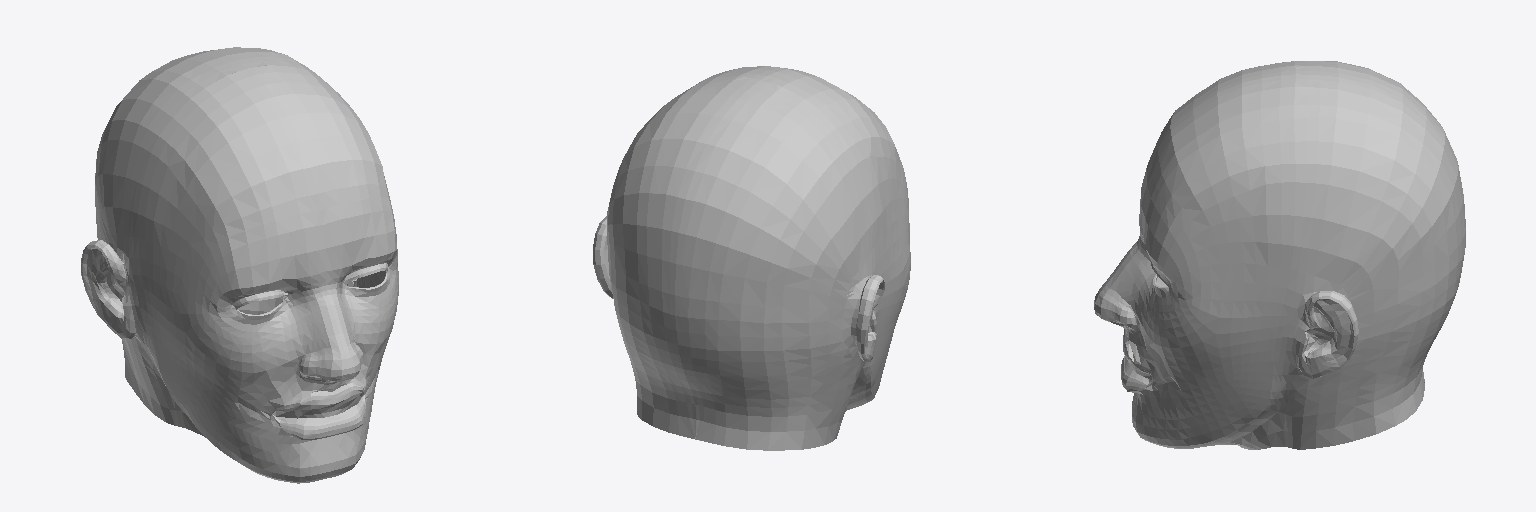
File: slightly open mouth.obj
3 renders of one model, left to right at view 1: azimuth 30°, elevation 25°; view 2: azimuth 150°, elevation 25°; view 3: azimuth 270°, elevation 25°, orthographic.
Parts seen in each view (by area): view 1: Mesh_object0; view 2: Mesh_object0; view 3: Mesh_object0.
Part boxes in pixels (bbox=[...]): Mesh_object0: bbox=[81, 47, 398, 483]; Mesh_object0: bbox=[593, 66, 910, 450]; Mesh_object0: bbox=[1094, 61, 1465, 449].
Size of the model in its own units: 30.6 by 38.16 by 35.42.